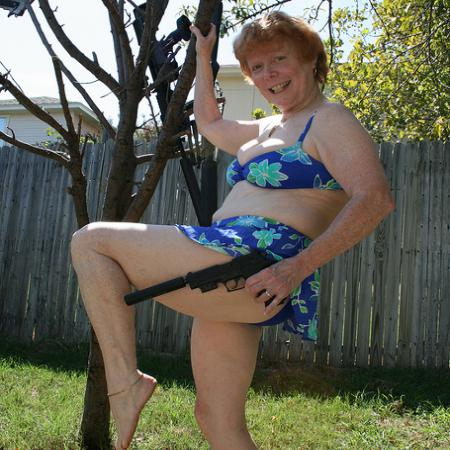Pistol: (186, 248, 289, 310)
